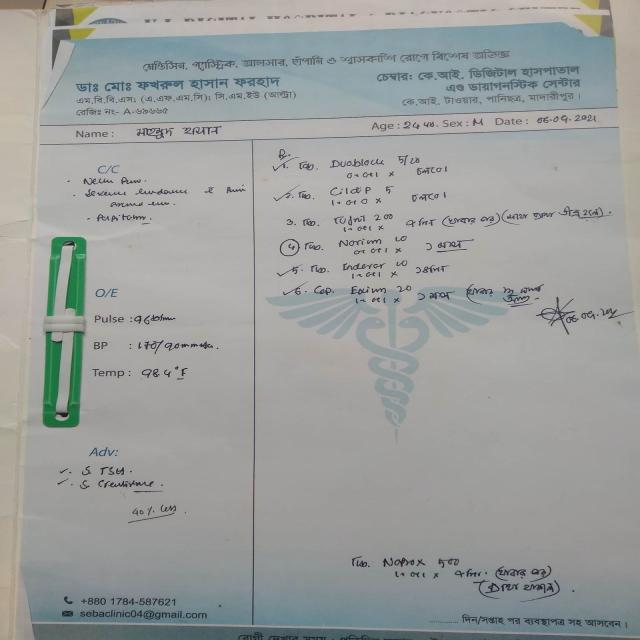Cildip: (325, 182, 378, 198)
Duoblock: (325, 155, 393, 170)
Exium: (346, 283, 390, 298)
Indever: (339, 258, 389, 275)
Norium: (337, 236, 387, 249)
Tufnil: (328, 211, 373, 227)
